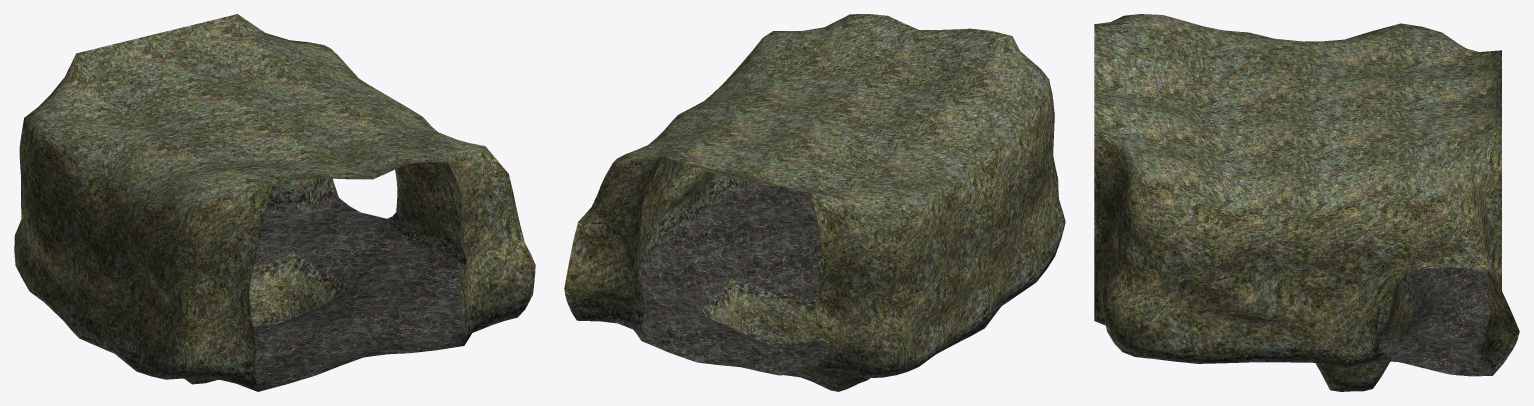
File: thm_all_cave_s02_damprock_mirror_r4_mesh_r4.fbx
3 views of the same model, side by side, from view 1: azimuth 30°, elevation 25°; view 2: azimuth 150°, elevation 25°; view 3: azimuth 270°, elevation 25° (orthographic). The views are drawn at different scales.
Parts seen in each view (by area): view 1: mesh_node; view 2: mesh_node; view 3: mesh_node.
Part boxes in pixels (x1,y1,x2,y2): mesh_node: [14, 14, 535, 391]; mesh_node: [564, 14, 1065, 391]; mesh_node: [1094, 14, 1519, 391].
Size of the model in its own units: 41.59 by 32.46 by 42.46.
